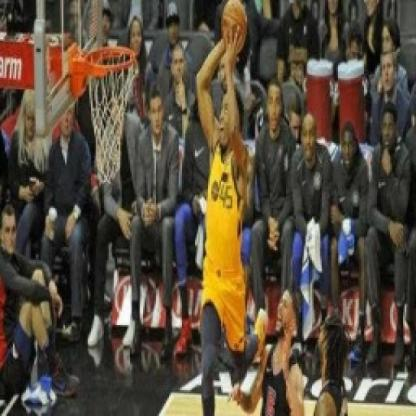basketball: (216, 0, 251, 52)
